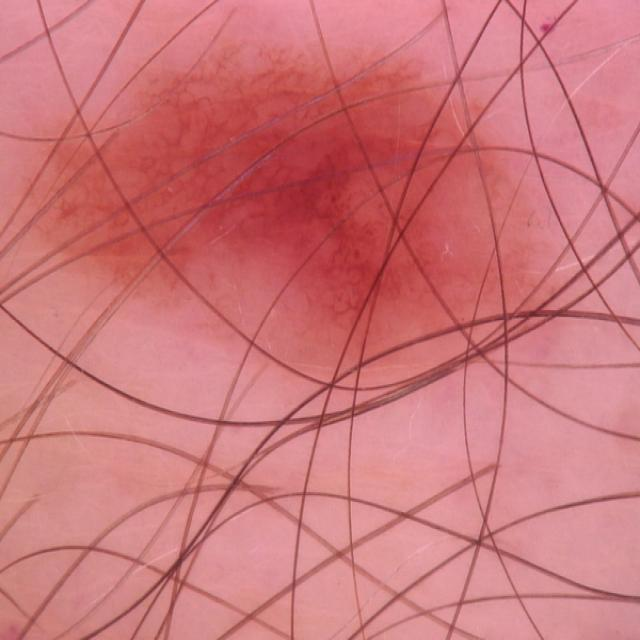NV: (1, 34, 563, 404)
